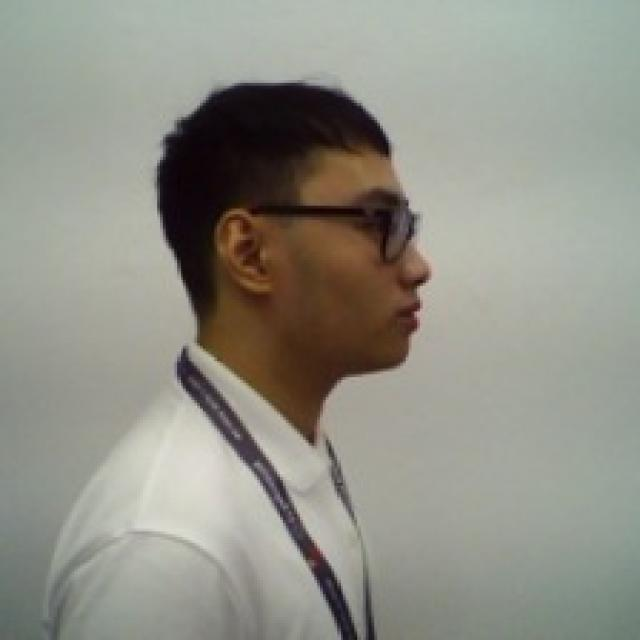no_gloves: (148, 72, 408, 205)
no_hairnet: (213, 207, 440, 386)
